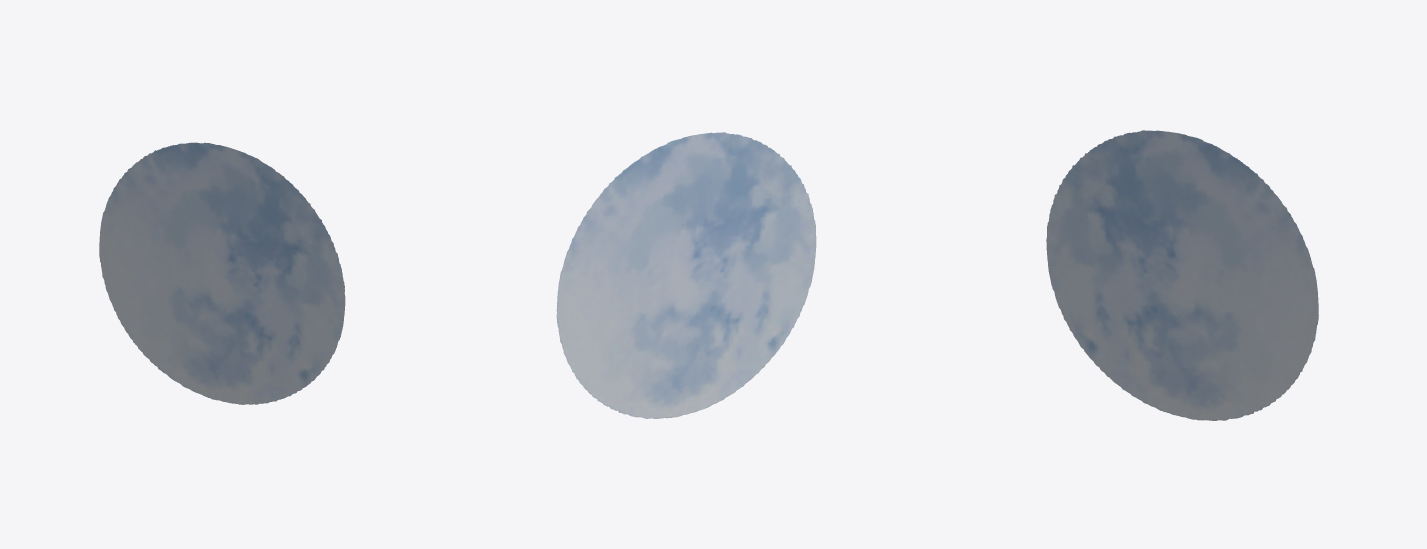
The model's file is Login_moon_01.FBX.
3 renders of one model, left to right at view 1: azimuth 90°, elevation 25°; view 2: azimuth 150°, elevation 25°; view 3: azimuth 270°, elevation 25°, orthographic. The views are drawn at different scales.
Visible parts, largest first — view 1: Login_moon_01; view 2: Login_moon_01; view 3: Login_moon_01.
Part boxes in pixels (box(x1,y1,x2,y2)): Login_moon_01: box(99, 142, 345, 404); Login_moon_01: box(556, 132, 816, 418); Login_moon_01: box(1046, 130, 1318, 420).
Size of the model in its own units: 34.12 by 71.35 by 62.66.
